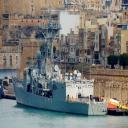Fragata: (13, 4, 111, 118)
